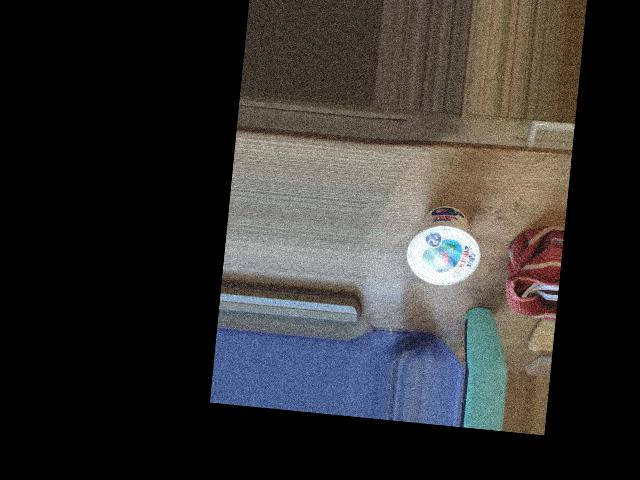cotage: (408, 200, 481, 292)
